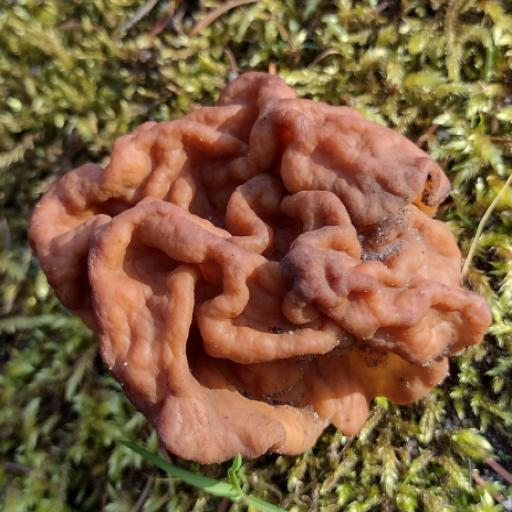False Morel: (0, 15, 512, 512)
